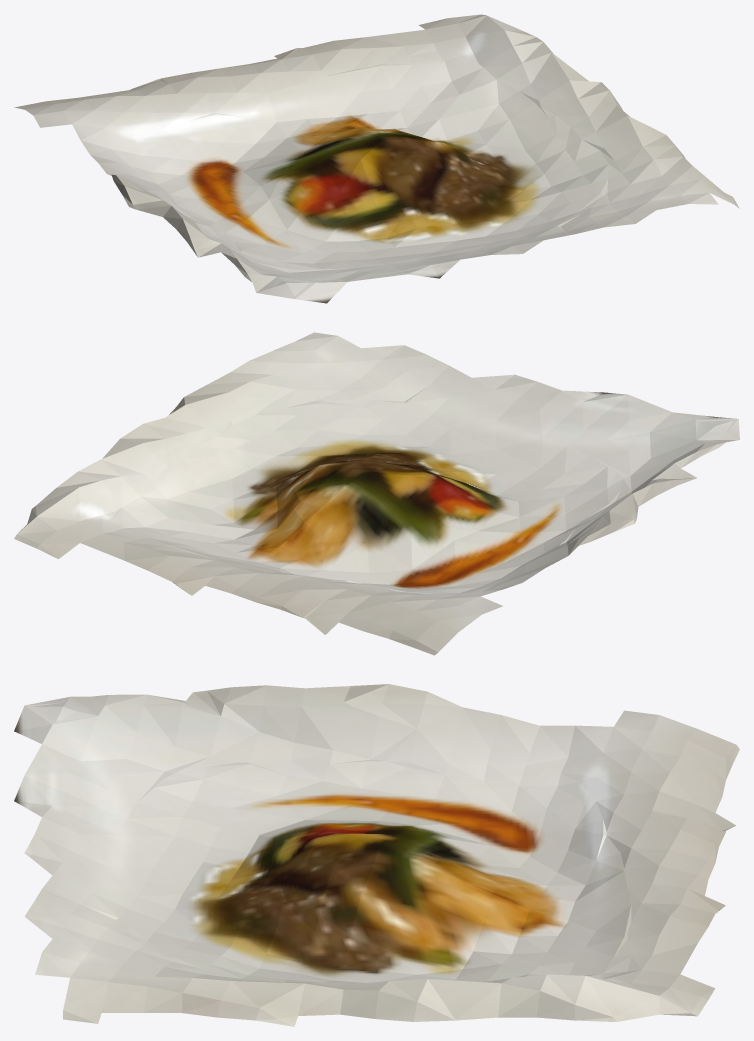
The picture shows the model from 3 angles, top to bottom: view 1: azimuth 30°, elevation 25°; view 2: azimuth 150°, elevation 25°; view 3: azimuth 270°, elevation 25°; orthographic projection. The views are drawn at different scales.
Parts seen in each view (by area): view 1: Mesh_0; view 2: Mesh_0; view 3: Mesh_0.
Part boxes in pixels (x1=…): Mesh_0: x1=14, y1=14, x2=739, y2=303; Mesh_0: x1=14, y1=332, x2=739, y2=655; Mesh_0: x1=14, y1=684, x2=739, y2=1026.
Size of the model in its own units: 0.202 by 0.025 by 0.207.
Materials: 1 (1 with a texture image).
